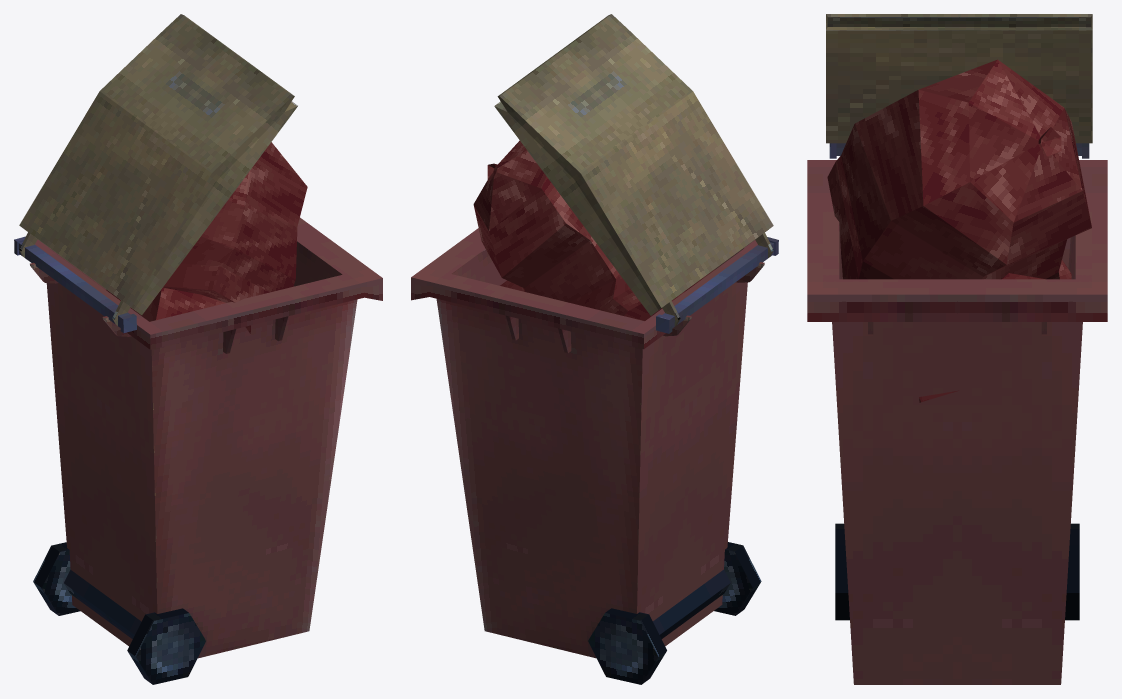
Rendered from trash_can_alt2_overflowing.glb.
3 views of the same model, side by side, from view 1: azimuth 30°, elevation 25°; view 2: azimuth 150°, elevation 25°; view 3: azimuth 270°, elevation 25° (orthographic). The views are drawn at different scales.
Visible parts, largest first — view 1: trash_can_alt2_overflowing; view 2: trash_can_alt2_overflowing; view 3: trash_can_alt2_overflowing.
Boxes of the visible parts, box(x1,y1,x2,y2) form: trash_can_alt2_overflowing: box(14, 14, 382, 684); trash_can_alt2_overflowing: box(411, 14, 778, 684); trash_can_alt2_overflowing: box(807, 14, 1107, 684).
Bounding box in the file's own units: 0.9 × 1.9 × 0.7794.
Materials: 3 (3 with a texture image).
